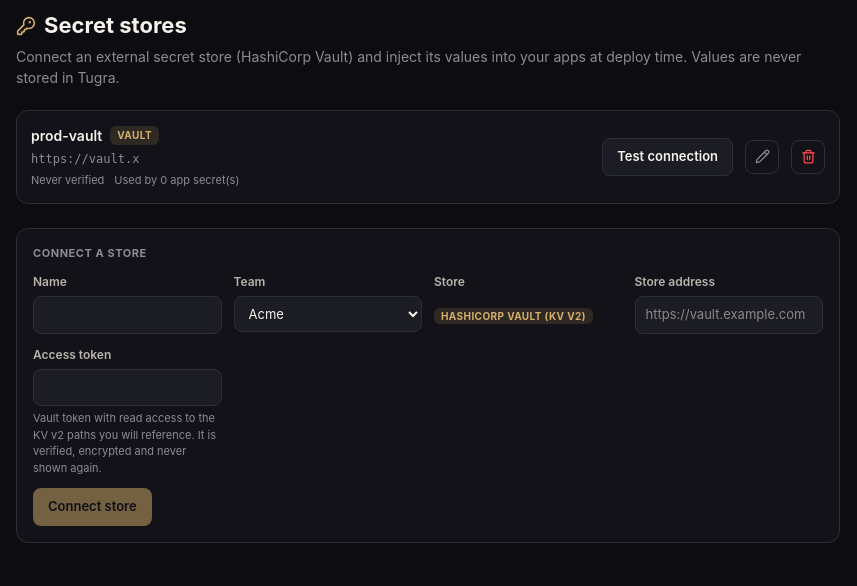
Test case: SecretProvidersPage › Test button verifies the connection and shows the result
Expected: the text "prod-vault" is shown, top-left (31, 125), bottom-right (102, 146)
What coordinates should you click on to do the following:
click the button "Test connection"
I would click on:
 (668, 157)
Its box is top-left (602, 138), bottom-right (733, 176).
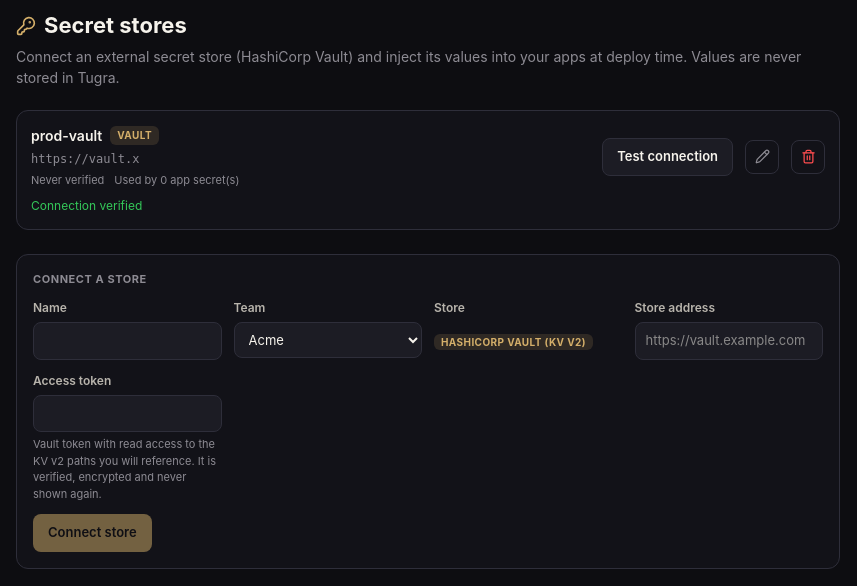
Now the text "Connection verified" is shown, box top-left (31, 198), bottom-right (142, 212)
